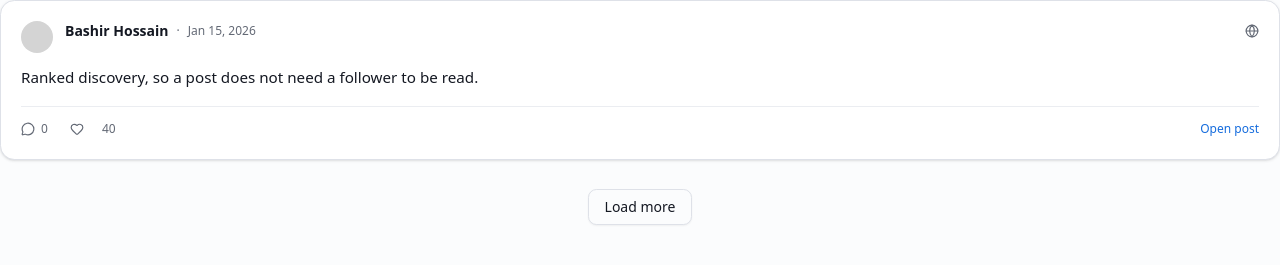
Test case: ExploreFeed › reports a load-more failure without losing the first page
The width and height of the screenshot is (1280, 265).
Expected: the text "Ranked discovery, so a post does not need a follower to be read." is shown, x1=21 y1=67 x2=478 y2=87
Click the button "Load more" at (640, 207), box x1=588 y1=189 x2=692 y2=225
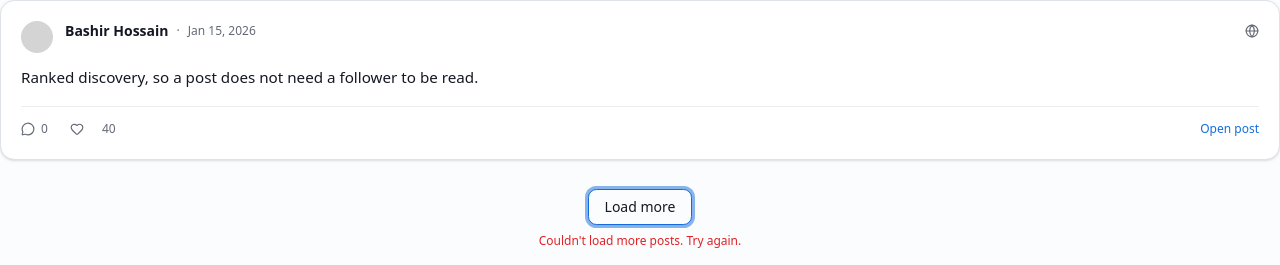
Expected: the text "Ranked discovery, so a post does not need a follower to be read." is shown, x1=21 y1=67 x2=478 y2=87
Expected: the text "Couldn't load more posts. Try again." is shown, x1=539 y1=233 x2=741 y2=249
